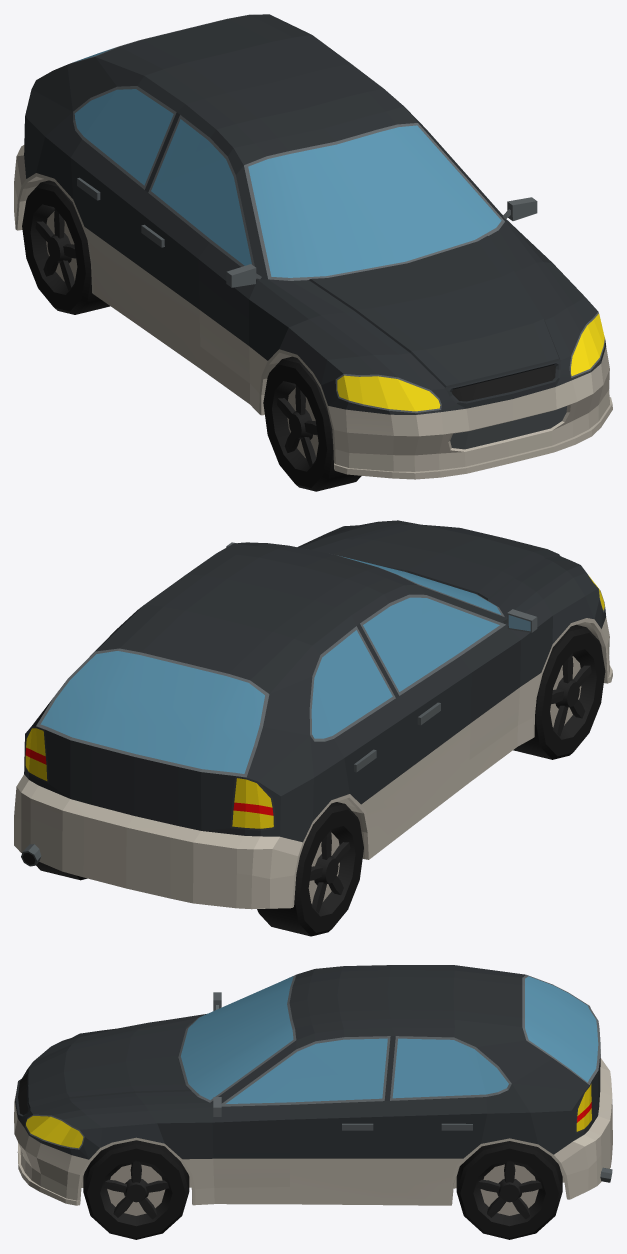
The model's file is Hatchback Car_15.fbx.
3 renders of one model, top to bottom at view 1: azimuth 30°, elevation 25°; view 2: azimuth 150°, elevation 25°; view 3: azimuth 270°, elevation 25°, orthographic. The views are drawn at different scales.
Parts seen in each view (by area): view 1: Hatchback Car_15; view 2: Hatchback Car_15; view 3: Hatchback Car_15.
Part boxes in pixels (x1,y1,x2,y2): Hatchback Car_15: (14,14,612,491); Hatchback Car_15: (14,520,612,936); Hatchback Car_15: (14,965,612,1239).
Bounding box in the file's own units: 202 × 159 × 443.
1 material, 1 textured.
